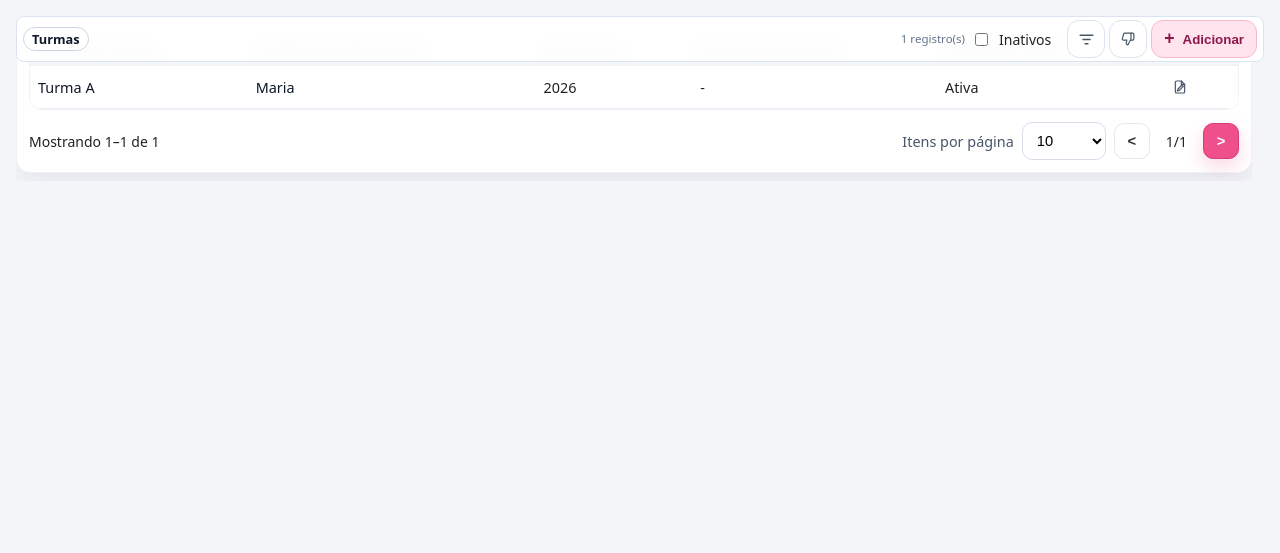
Test case: Segunda fatia das listagens › Turmas reaproveita valores carregados quando o backend não devolve opções de filtro
Click the button named "Abrir filtros": (1086,39) [1067,20,1105,58]
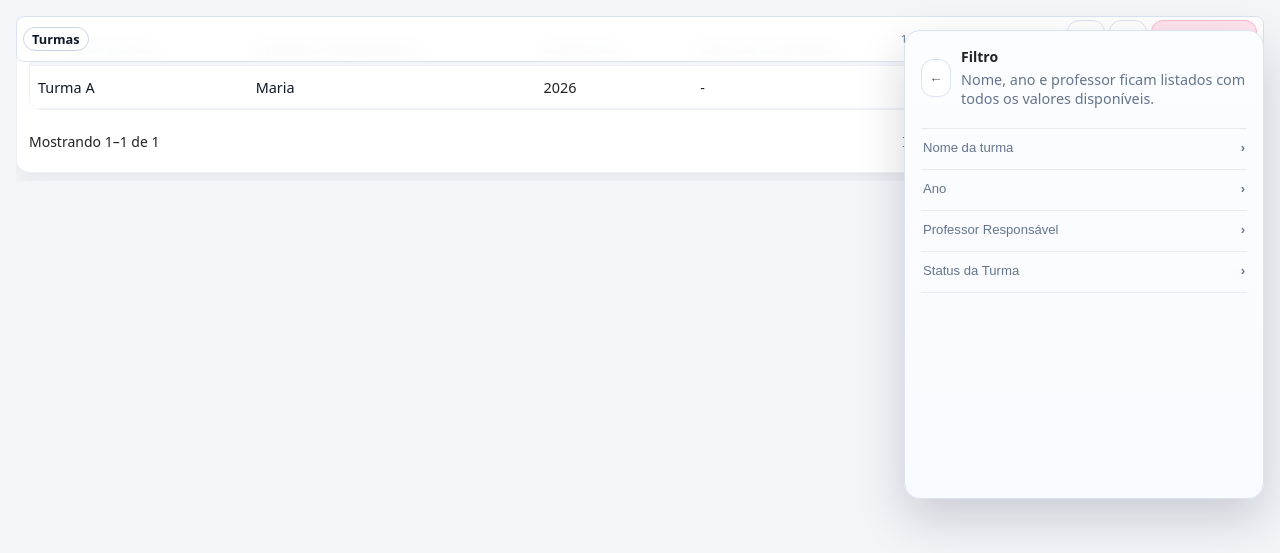
Click the button "Professor Responsável ›": (991,230) [921,211,1247,252]
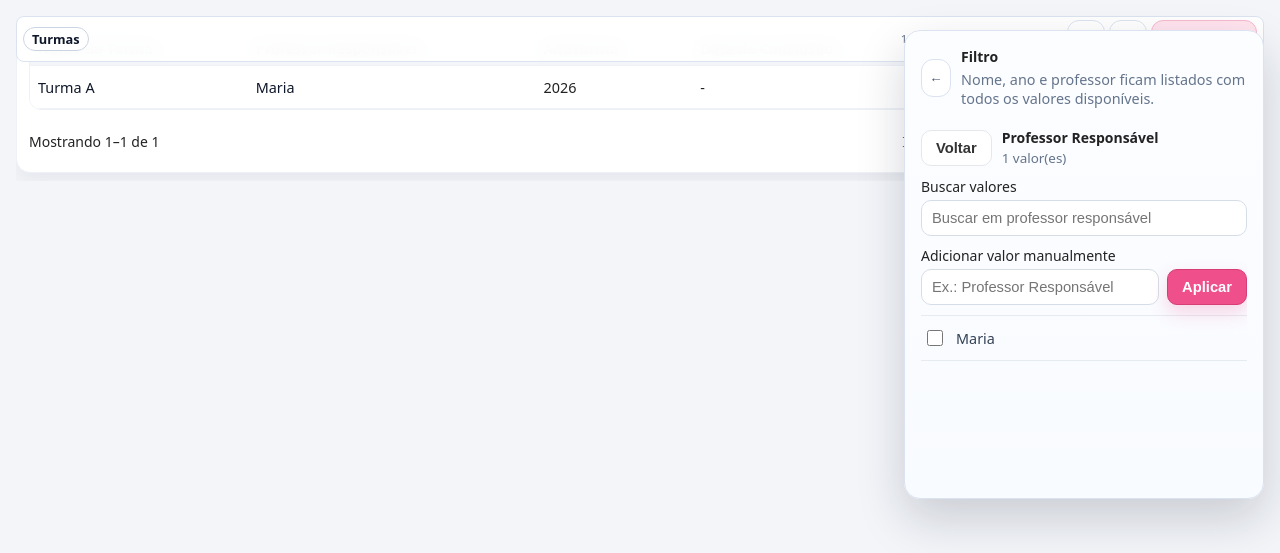
Expected: the checkbox labelled "Maria" is shown, [927,330,943,346]
